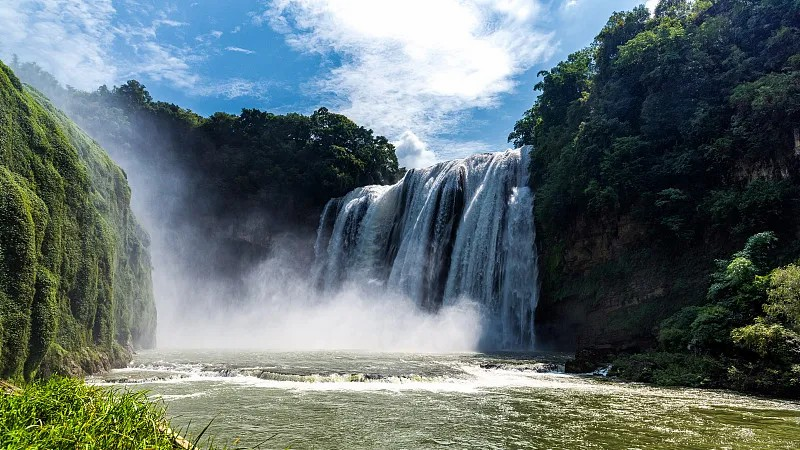Huangguoshu: (311, 150, 537, 353)
